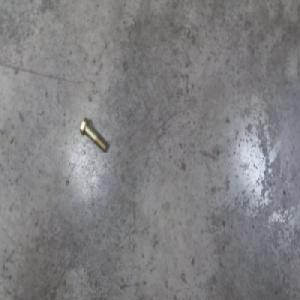Bolt: (78, 117, 107, 155)
